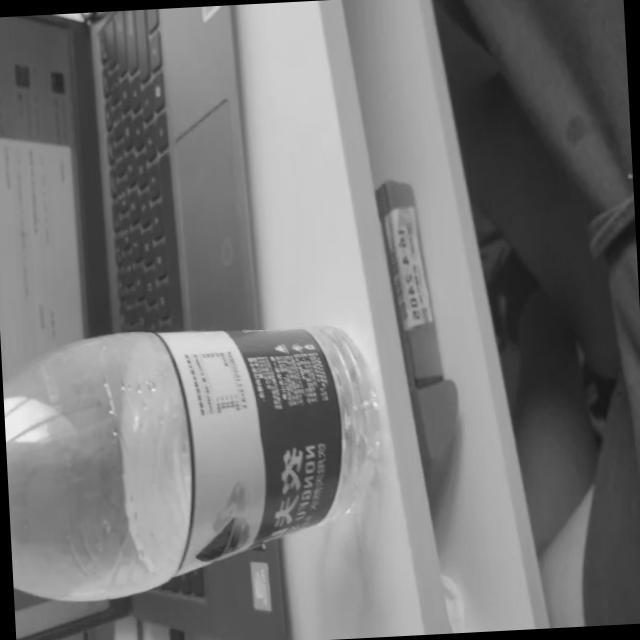good: (0, 310, 392, 602)
